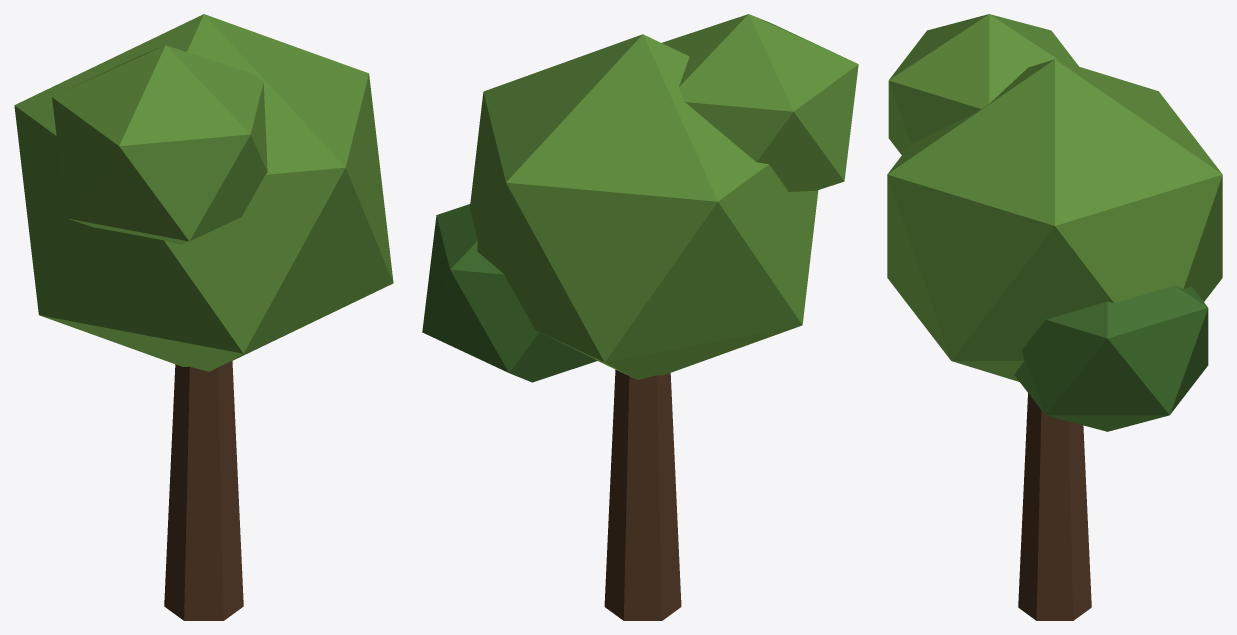
The model's file is TreeRound.fbx.
3 views of the same model, side by side, from view 1: azimuth 30°, elevation 25°; view 2: azimuth 150°, elevation 25°; view 3: azimuth 270°, elevation 25° (orthographic). The views are drawn at different scales.
Visible parts, largest first — view 1: TreeRound; view 2: TreeRound; view 3: TreeRound.
Boxes of the visible parts, box(x1,y1,x2,y2) form: TreeRound: box(14, 14, 393, 620); TreeRound: box(422, 14, 858, 620); TreeRound: box(887, 14, 1222, 620).
Bounding box in the file's own units: 1.45 × 2.35 × 1.28.
